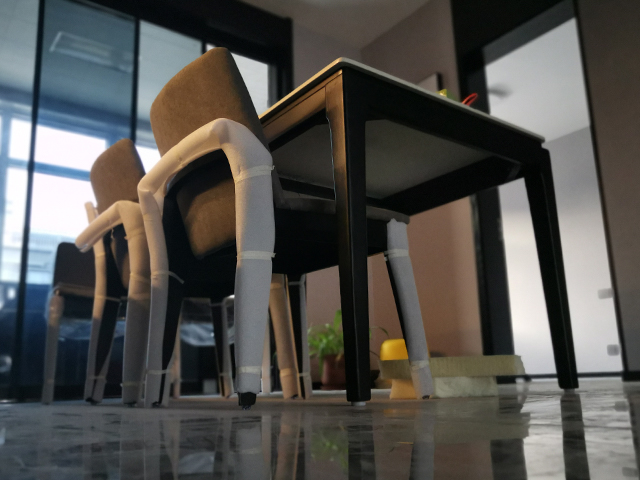stool: (151, 52, 435, 412), (79, 139, 243, 406), (38, 240, 132, 410)
table: (255, 56, 579, 411)
